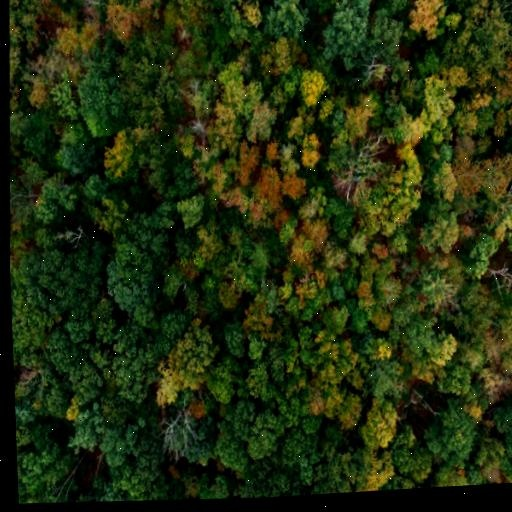tree-top: (99, 212, 169, 323), (23, 228, 107, 320), (158, 315, 221, 403), (445, 0, 512, 80), (118, 41, 179, 128), (217, 399, 278, 484), (93, 318, 146, 399), (367, 163, 421, 239), (422, 395, 478, 467), (319, 0, 371, 69), (450, 147, 511, 204), (359, 4, 408, 73), (389, 291, 437, 356), (25, 172, 75, 234), (418, 201, 467, 262), (448, 285, 492, 352), (275, 427, 321, 491), (120, 440, 166, 502), (314, 328, 358, 391), (419, 147, 462, 209), (361, 395, 404, 456), (78, 73, 123, 131), (17, 445, 60, 505), (416, 72, 456, 133), (104, 0, 157, 45), (11, 285, 46, 351), (321, 429, 359, 488), (102, 128, 141, 184), (97, 420, 139, 472), (373, 93, 416, 143), (64, 399, 103, 454), (479, 178, 512, 243), (51, 11, 99, 55), (211, 61, 253, 111), (58, 129, 99, 180), (286, 212, 327, 263), (459, 225, 496, 281), (7, 0, 47, 51), (181, 415, 219, 468), (436, 357, 480, 402), (248, 161, 284, 216), (201, 351, 241, 400), (264, 0, 312, 40), (406, 0, 451, 41), (356, 444, 394, 492), (159, 403, 193, 455), (50, 71, 81, 126), (11, 112, 49, 155), (332, 387, 366, 434), (260, 33, 293, 81), (242, 99, 277, 144), (398, 446, 435, 487), (173, 185, 205, 232), (232, 140, 263, 187), (299, 63, 329, 108), (347, 97, 378, 140), (274, 168, 310, 205), (243, 232, 274, 274), (371, 267, 403, 307), (491, 397, 512, 450), (218, 318, 247, 353), (301, 128, 326, 168), (246, 363, 272, 400), (237, 0, 267, 31), (177, 126, 201, 162), (491, 57, 512, 98), (331, 206, 357, 239), (435, 464, 471, 487), (301, 183, 326, 215), (30, 416, 51, 453), (275, 217, 301, 244), (325, 306, 348, 336), (243, 334, 262, 365), (349, 229, 368, 259), (505, 100, 512, 129)
